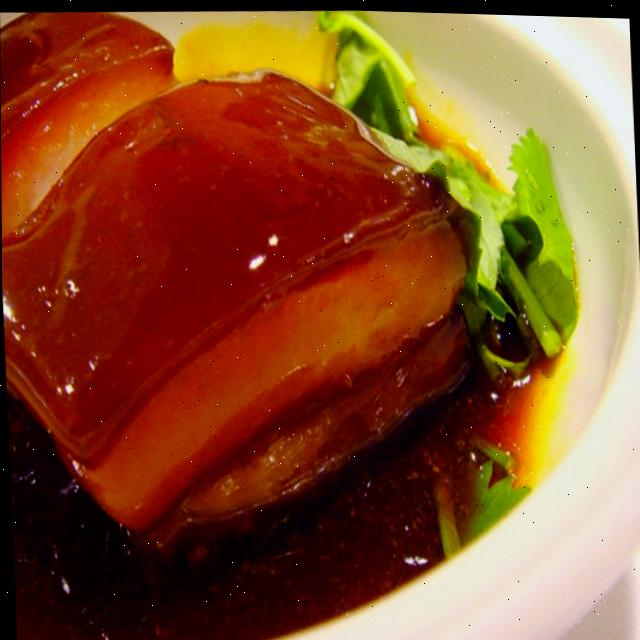牛肉菜式: (0, 0, 502, 599)
